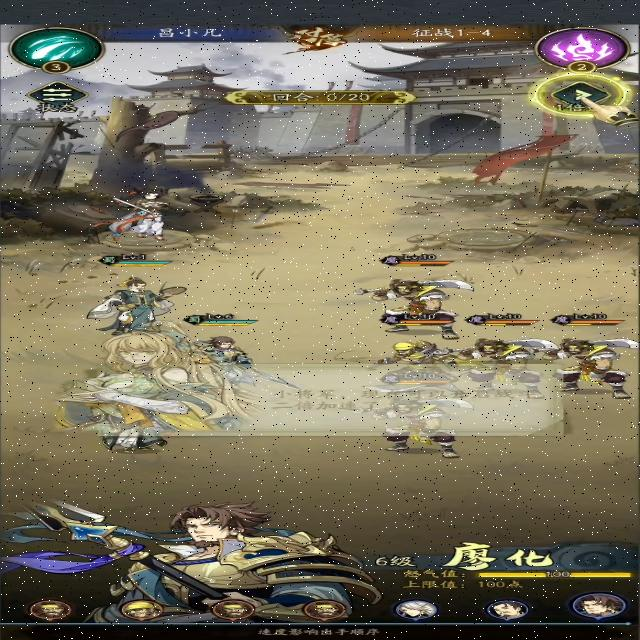hint-guide: (52, 319, 582, 445), (502, 59, 640, 129)
